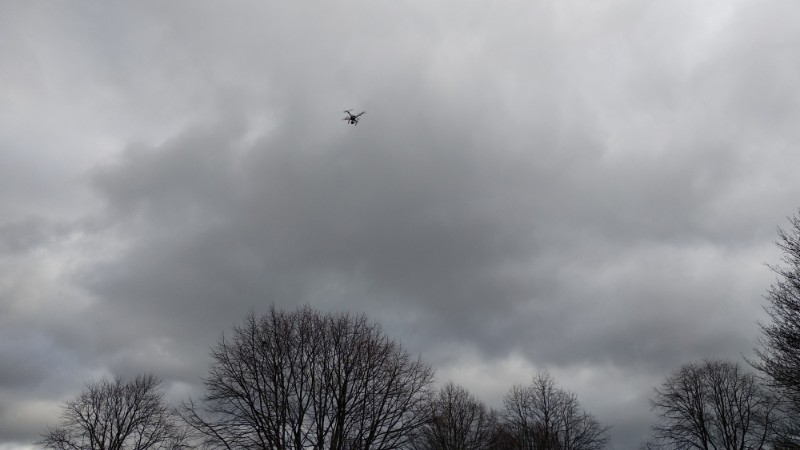drone: (342, 108, 365, 125)
